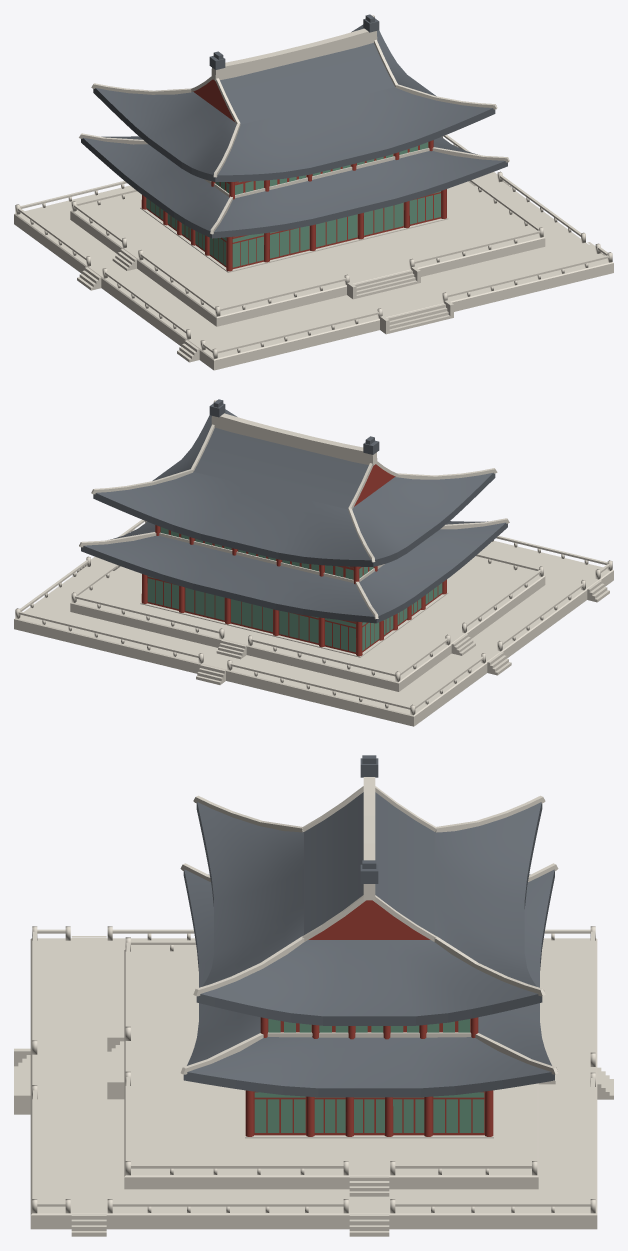
Rendered from seoul-geunjeongjeon.glb.
3 views of the same model, one above another, from view 1: azimuth 30°, elevation 25°; view 2: azimuth 150°, elevation 25°; view 3: azimuth 270°, elevation 25° (orthographic). The views are drawn at different scales.
Parts seen in each view (by area): view 1: Geunjeongjeon; view 2: Geunjeongjeon; view 3: Geunjeongjeon.
Part boxes in pixels (x1,y1,x2,y2): Geunjeongjeon: (14,14,613,370); Geunjeongjeon: (14,399,613,726); Geunjeongjeon: (14,755,613,1236).
Bounding box in the file's own units: 58.88 × 26.62 × 51.38.
